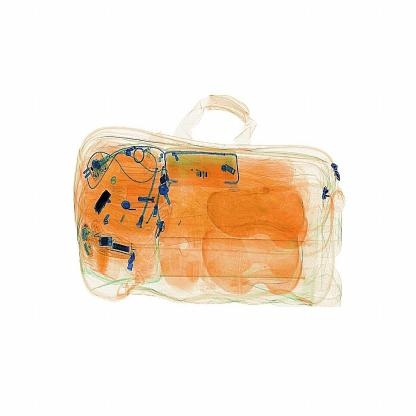scissors: (91, 188, 118, 218)
